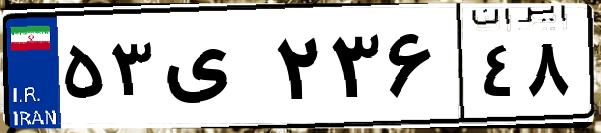2: (270, 28, 330, 110)
3: (330, 28, 385, 110), (110, 28, 158, 98)
4: (475, 38, 525, 113)
5: (57, 26, 110, 100)
6: (385, 28, 445, 110)
8: (525, 38, 570, 115)
ی: (158, 20, 270, 120)
